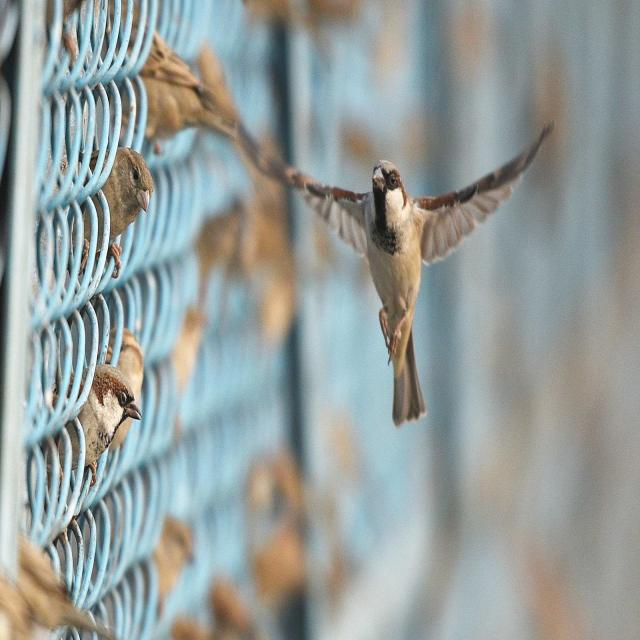Sparrow: (280, 130, 544, 426)
